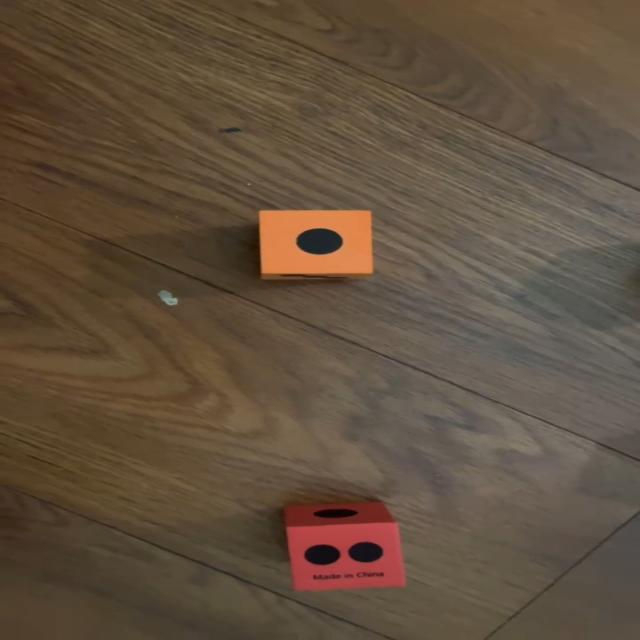red_block: (286, 500, 410, 592)
